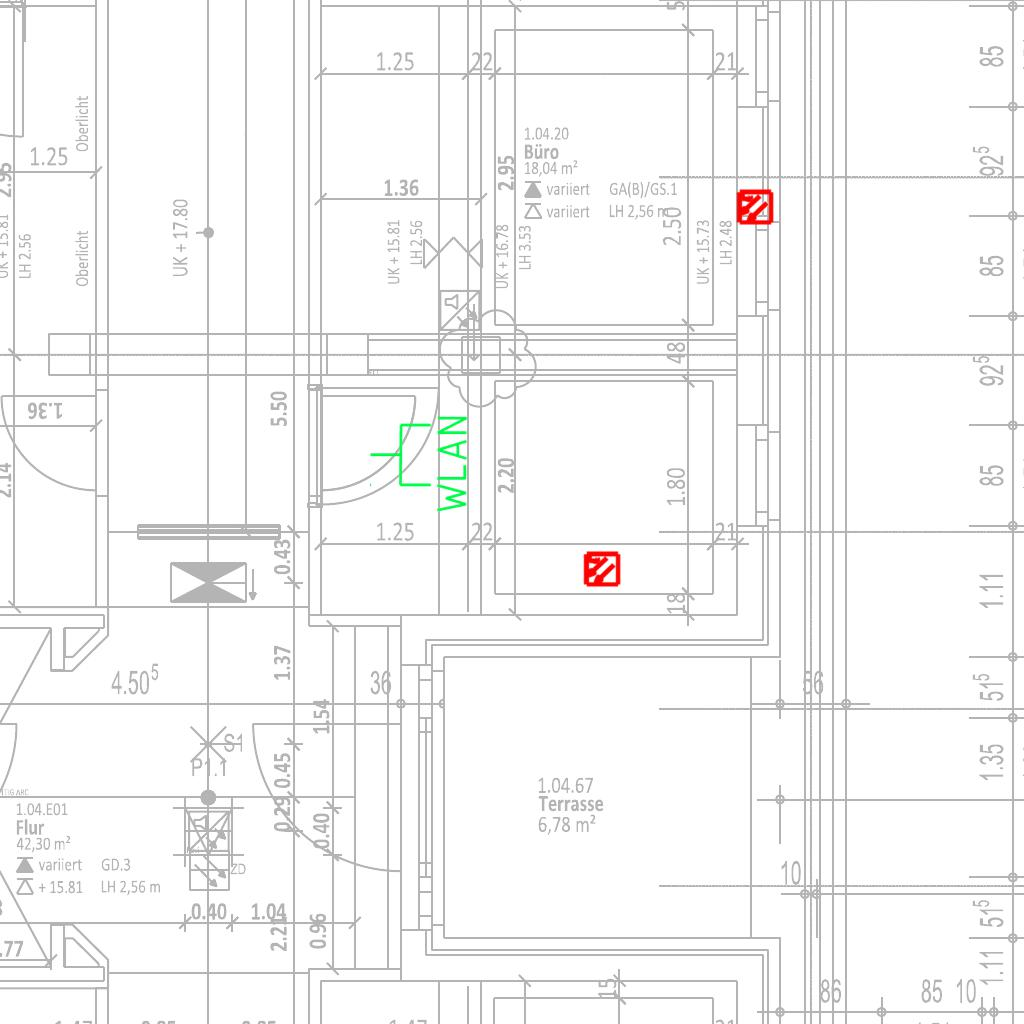OT_Multisensormelder_(Kombination_RMO_WMD): (573, 541, 629, 597), (726, 179, 782, 235)
WLAN: (367, 412, 471, 517)
